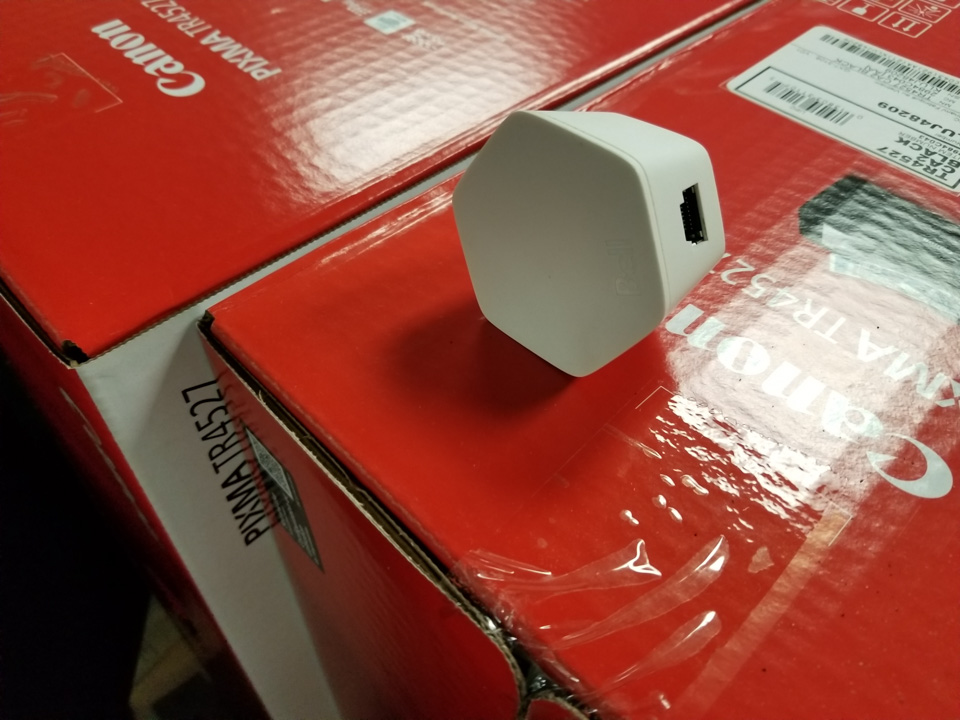pod: (446, 102, 746, 384)
